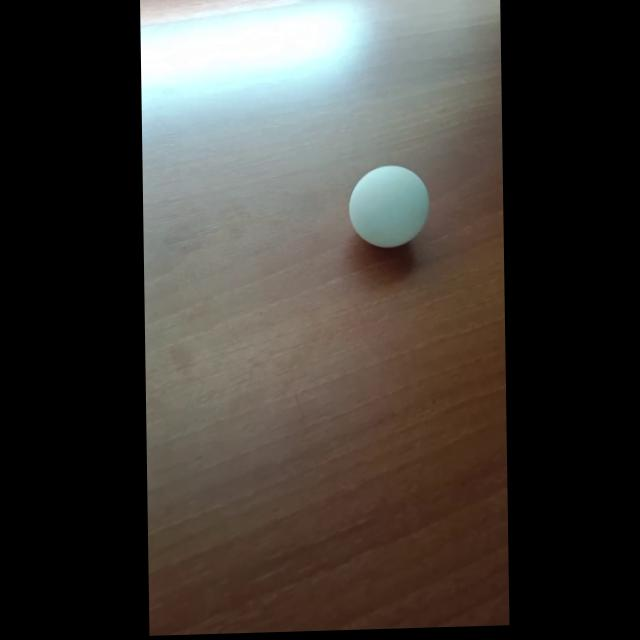white ball: (348, 163, 430, 250)
